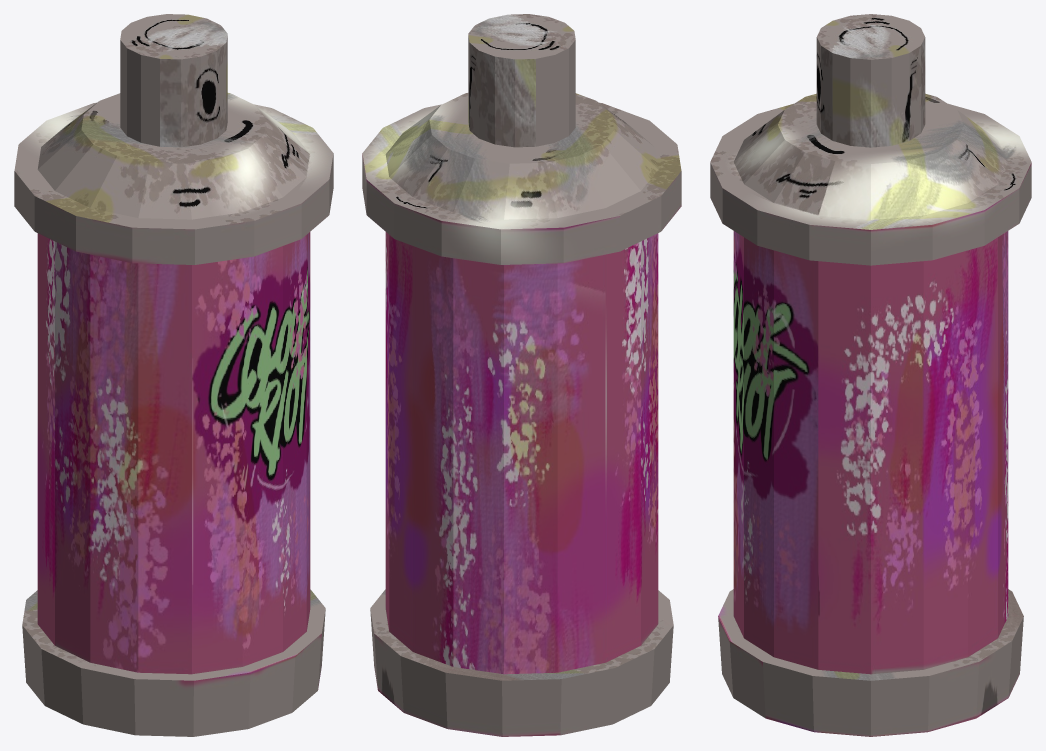
Rendered from can_correctinteraction.fbx.
3 views of the same model, side by side, from view 1: azimuth 30°, elevation 25°; view 2: azimuth 150°, elevation 25°; view 3: azimuth 270°, elevation 25° (orthographic).
Parts seen in each view (by area): view 1: Cylinder; view 2: Cylinder; view 3: Cylinder.
Boxes of the visible parts, <box> form: Cylinder: <box>14,14,333,736</box>; Cylinder: <box>362,14,681,736</box>; Cylinder: <box>710,14,1031,736</box>.
Bounding box in the file's own units: 78.12 × 171 × 78.12.
1 material, 1 textured.
